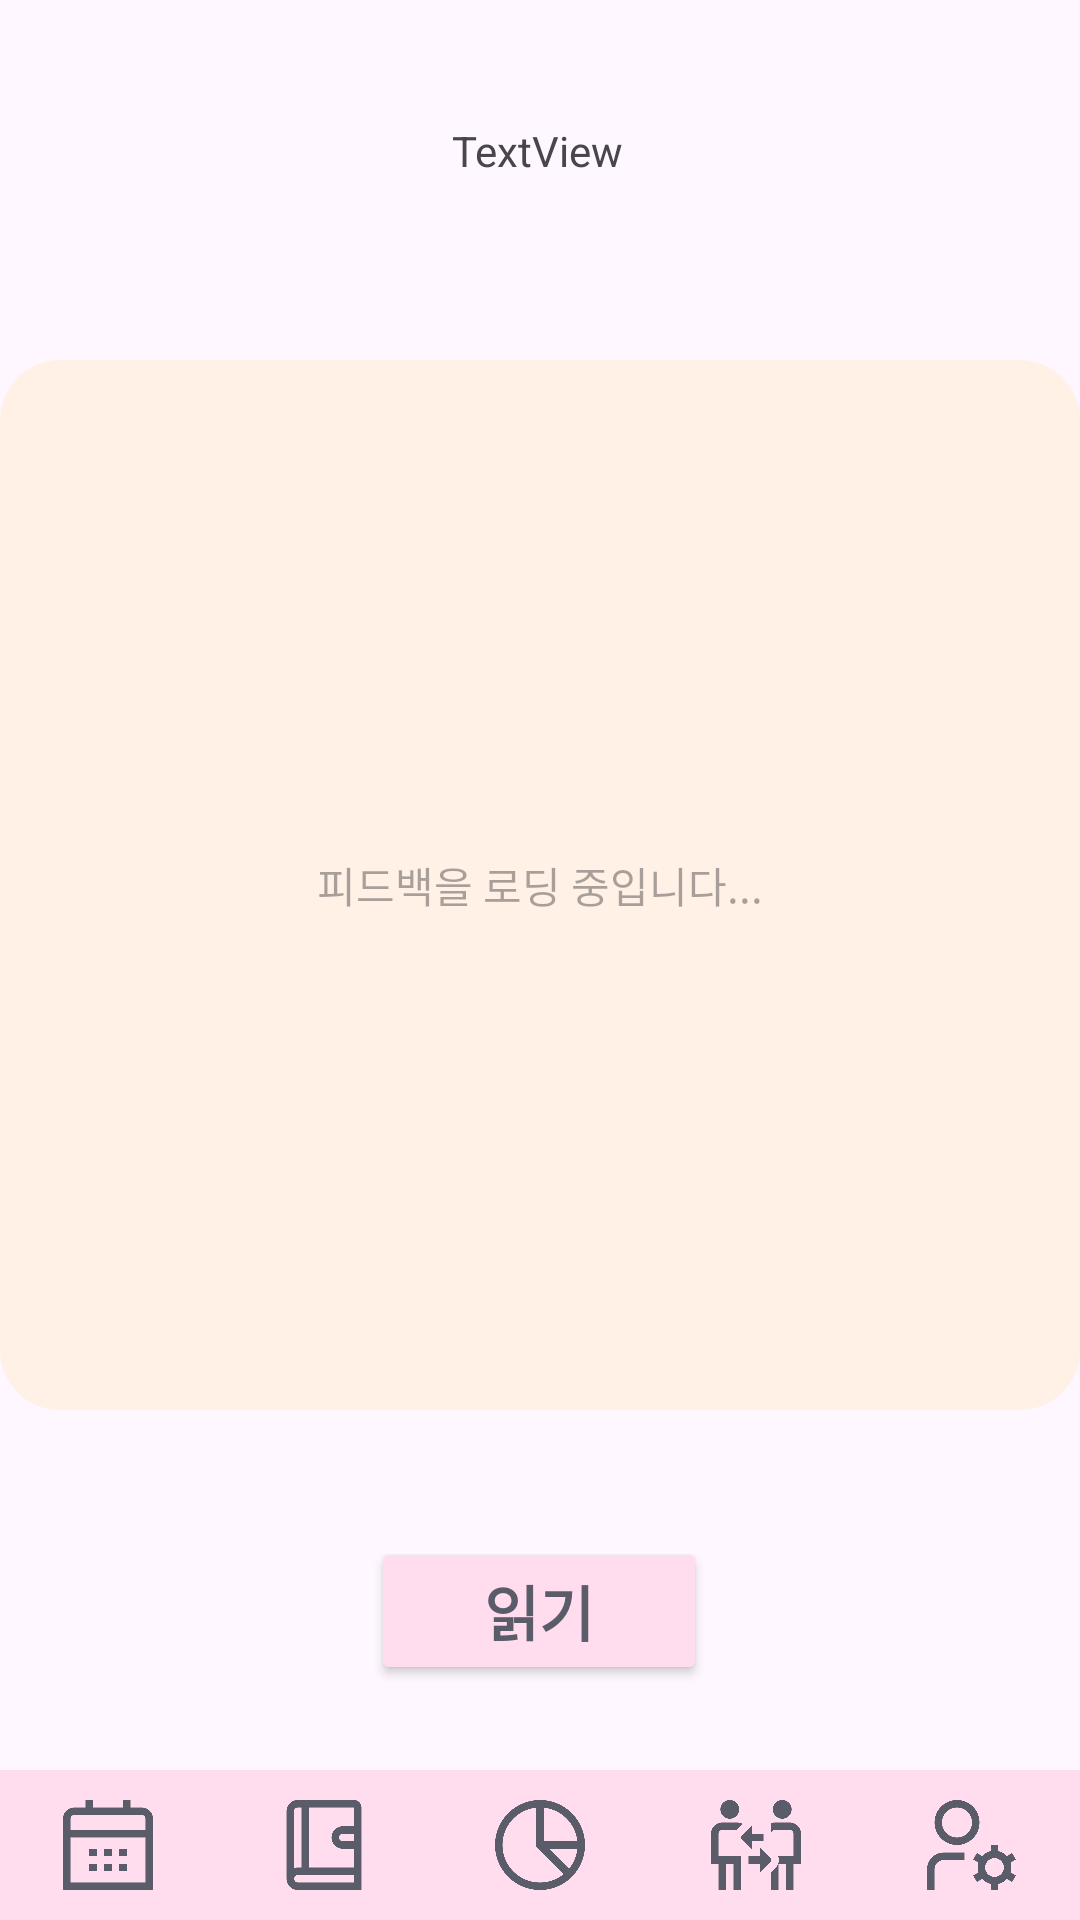

Screen size 1080×1920. Icon name, then its center in pixels as [x,y]:
admin: [971,1845]
chart: [540,1845]
diary: [324,1845]
iconcalendar: [108,1845]
social: [756,1845]
